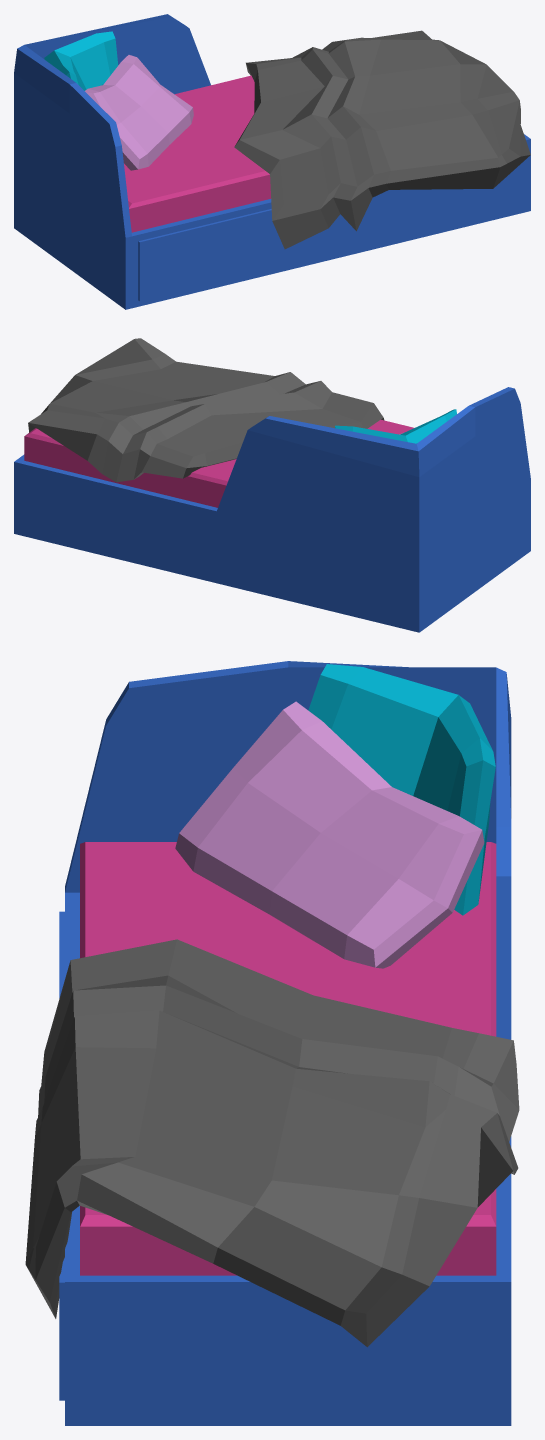
The model's file is 2021bed.fbx.
3 renders of one model, top to bottom at view 1: azimuth 30°, elevation 25°; view 2: azimuth 150°, elevation 25°; view 3: azimuth 270°, elevation 25°, orthographic. The views are drawn at different scales.
Visible parts, largest first — view 1: Cube.004; view 2: Cube.004; view 3: Cube.004.
Part boxes in pixels (box(x1,y1,x2,y2)): Cube.004: box(14, 14, 530, 309); Cube.004: box(14, 338, 530, 632); Cube.004: box(25, 661, 519, 1425).
Size of the model in its own units: 621 by 265 by 316.
